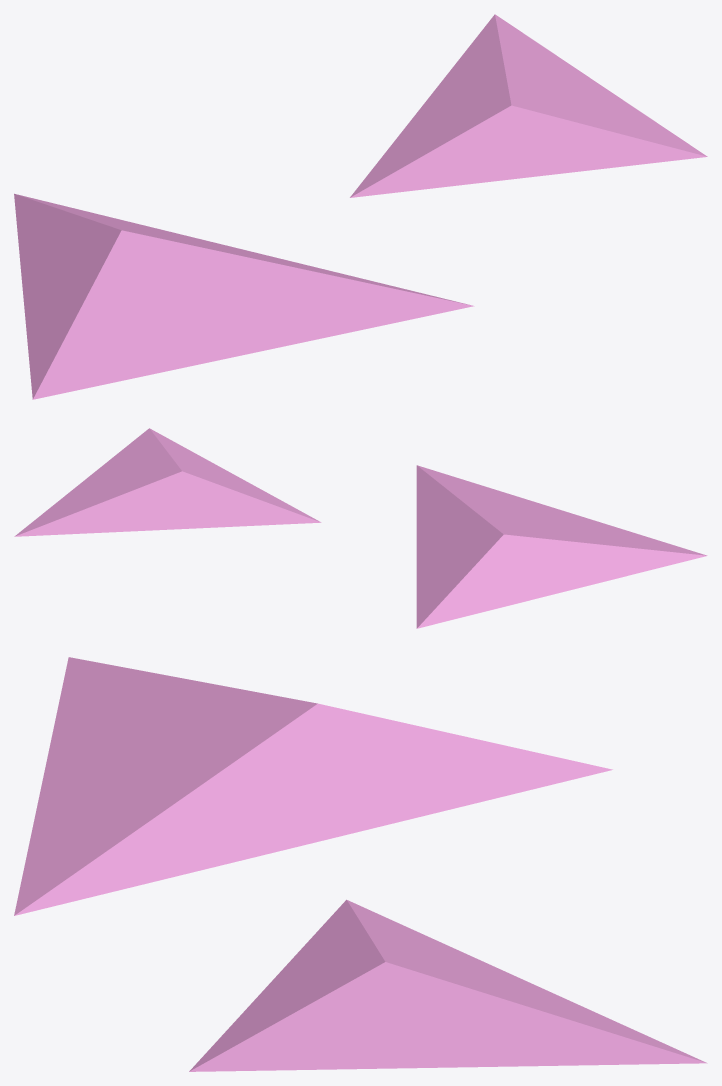
The model's file is salt.fbx.
The picture shows the model from 3 angles, top to bottom: view 1: azimuth 30°, elevation 25°; view 2: azimuth 150°, elevation 25°; view 3: azimuth 270°, elevation 25°; orthographic projection. The views are drawn at different scales.
Parts seen in each view (by area): view 1: Cone; view 2: Cone; view 3: Cone.
Boxes of the visible parts, left/top/right/bottom form: Cone: left=14, top=14, right=707, bottom=399; Cone: left=14, top=428, right=707, bottom=628; Cone: left=14, top=657, right=707, bottom=1071.
Bounding box in the file's own units: 271 × 21.09 × 174.
